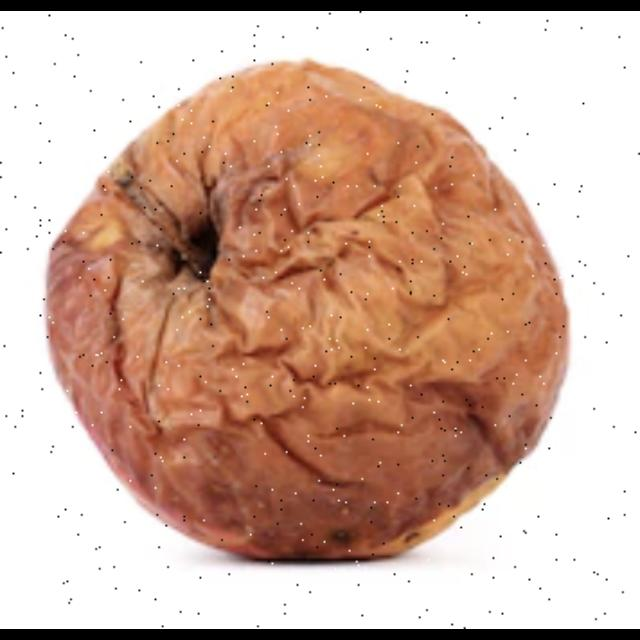Apel Tidak Segar: (24, 28, 586, 580)
